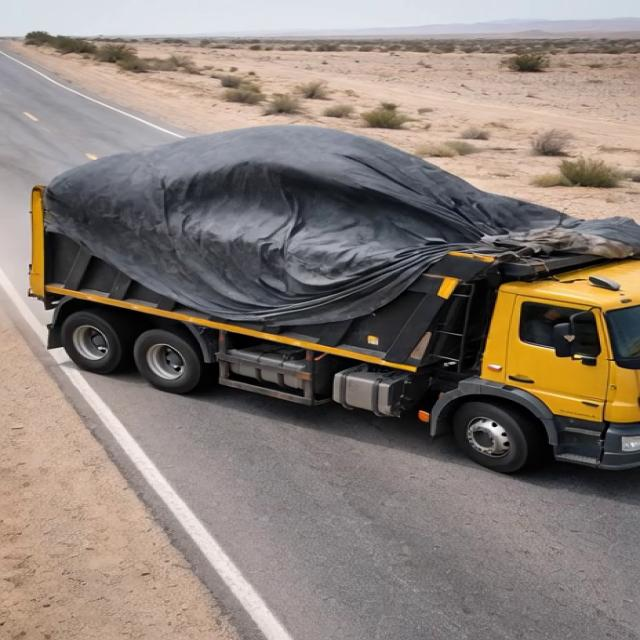trailer: (21, 172, 608, 272)
truck: (10, 146, 640, 477)
